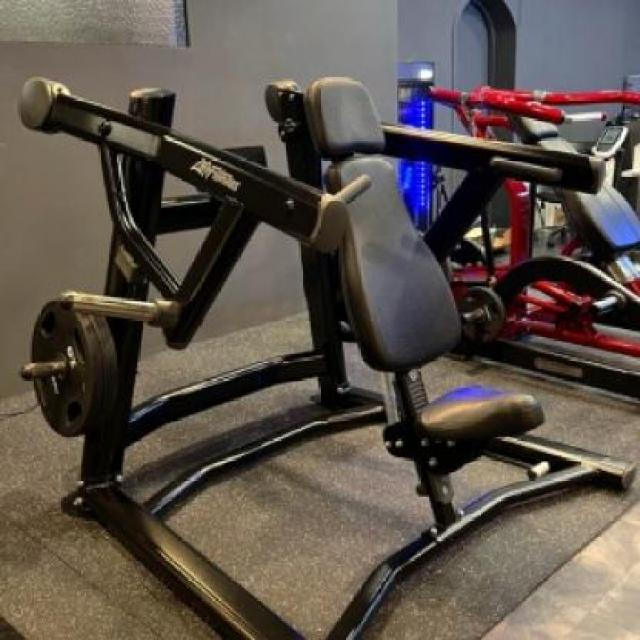shoulder press machine: (3, 38, 640, 640)
